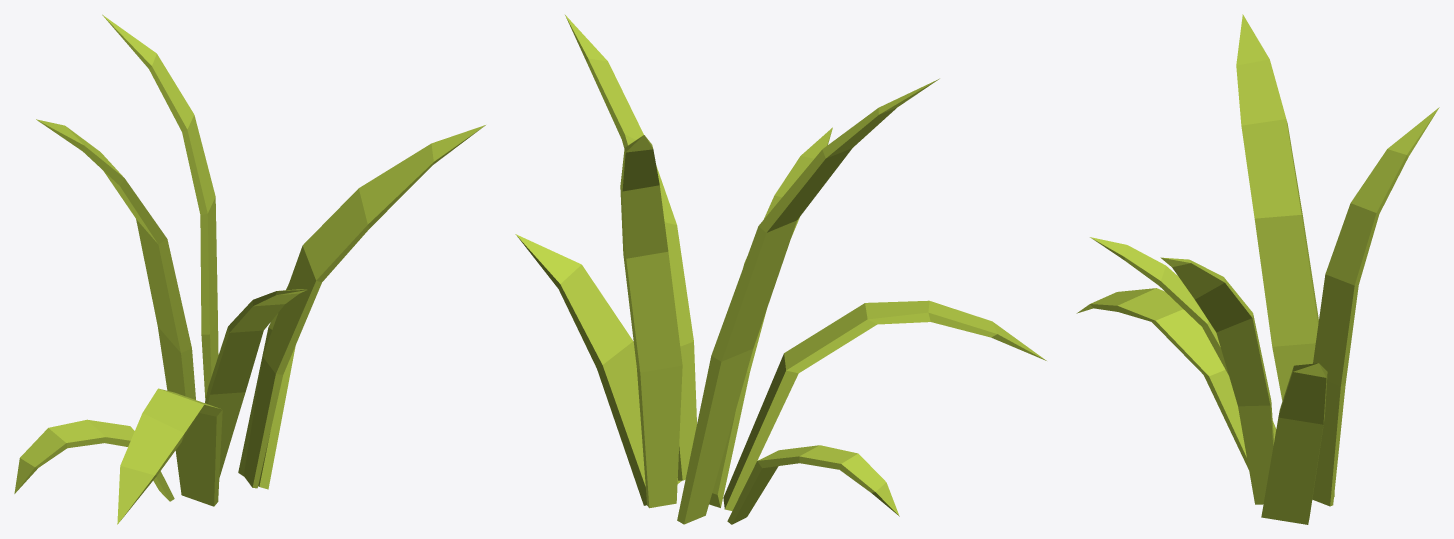
Rendered from grass_05.fbx.
The picture shows the model from 3 angles, left to right: view 1: azimuth 30°, elevation 25°; view 2: azimuth 150°, elevation 25°; view 3: azimuth 270°, elevation 25°; orthographic projection. The views are drawn at different scales.
Parts seen in each view (by area): view 1: grass_005; view 2: grass_005; view 3: grass_005.
Boxes of the visible parts, left/top/right/bottom form: grass_005: left=14, top=14, right=485, bottom=524; grass_005: left=515, top=15, right=1046, bottom=524; grass_005: left=1076, top=14, right=1439, bottom=524.
Size of the model in its own units: 48.16 by 49.07 by 40.32.
